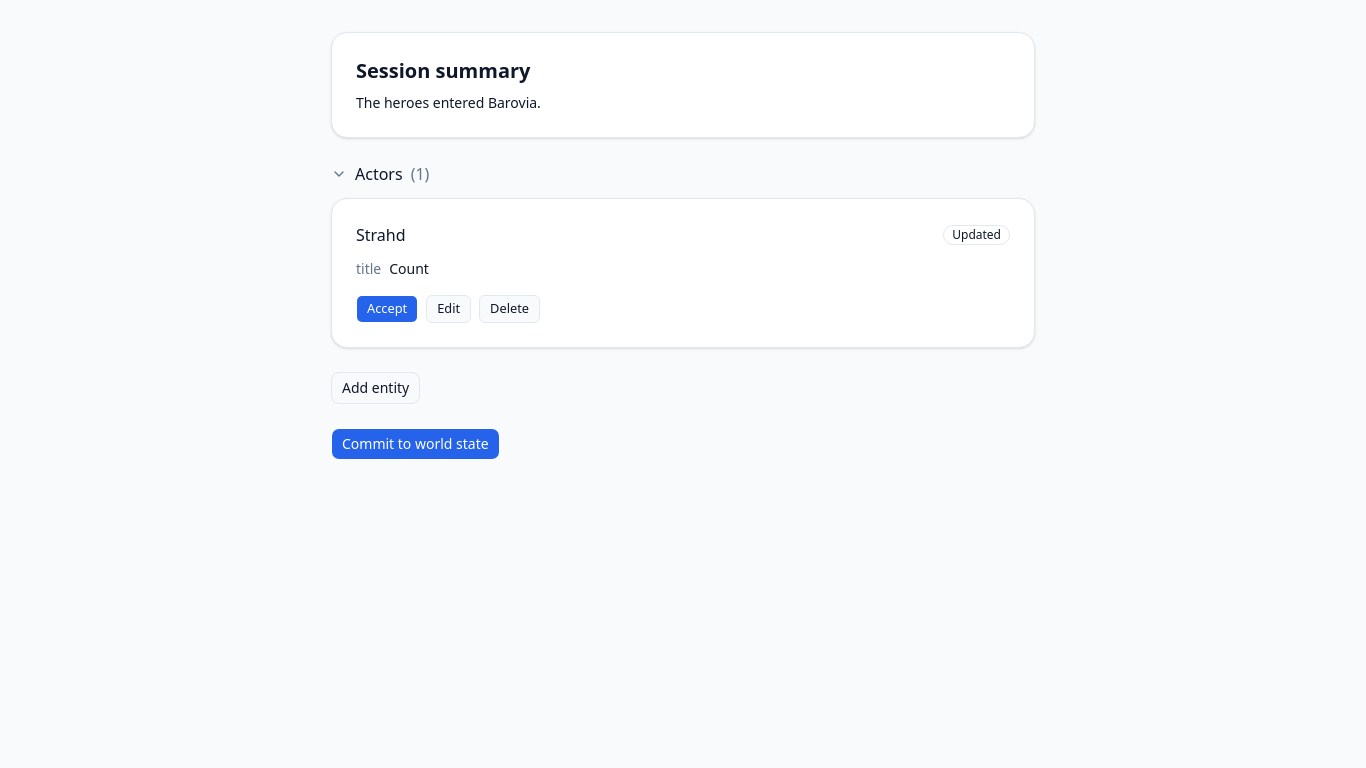
Test: DiffReviewPage › opens the edit overlay and records an edit decision on save
The width and height of the screenshot is (1366, 768).
Step 1. Click the button "Edit" → (449, 309), box x1=426 y1=295 x2=471 y2=323
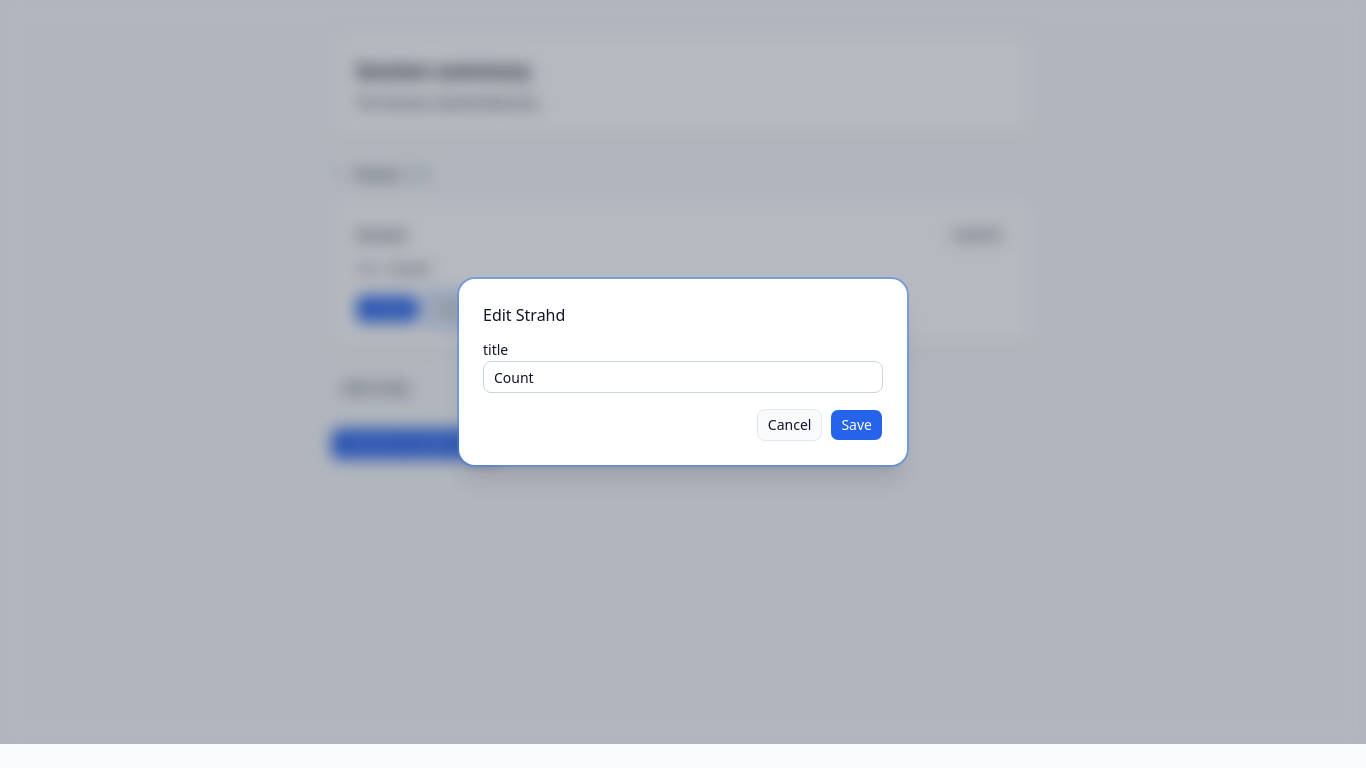
Step 2. Replace the text in the field labelled "title" with "Lord" → (683, 377), box x1=483 y1=361 x2=883 y2=393
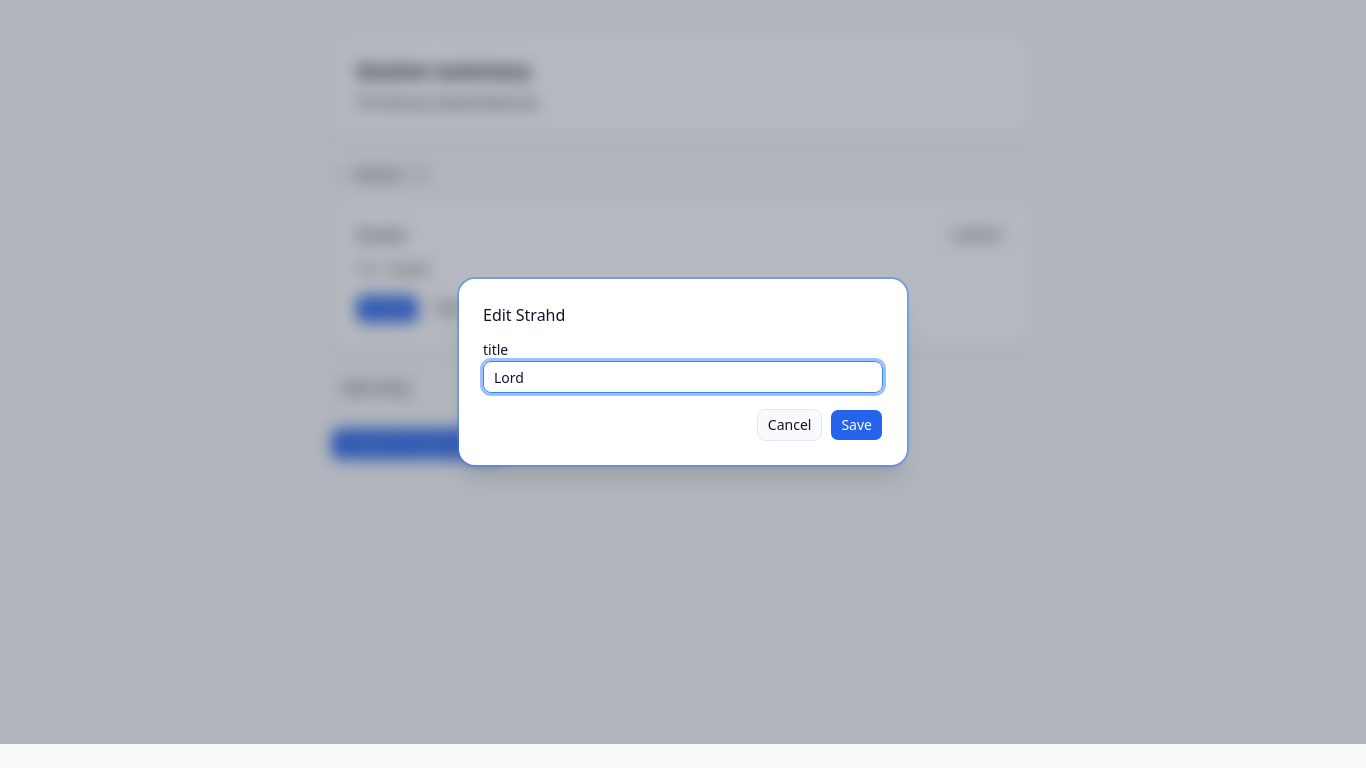
Step 3. Click the button "Save" → (857, 425), box x1=830 y1=409 x2=883 y2=441
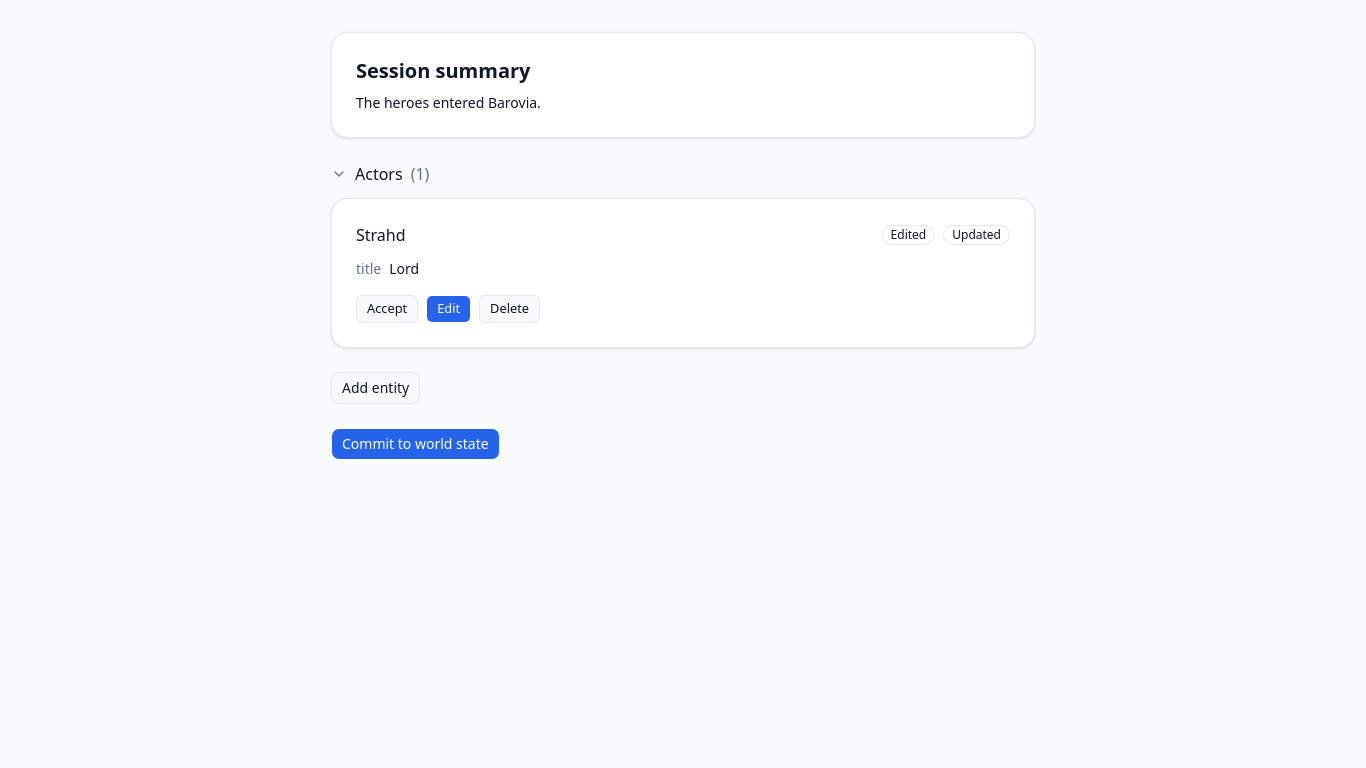
Expected: the dialog is gone
